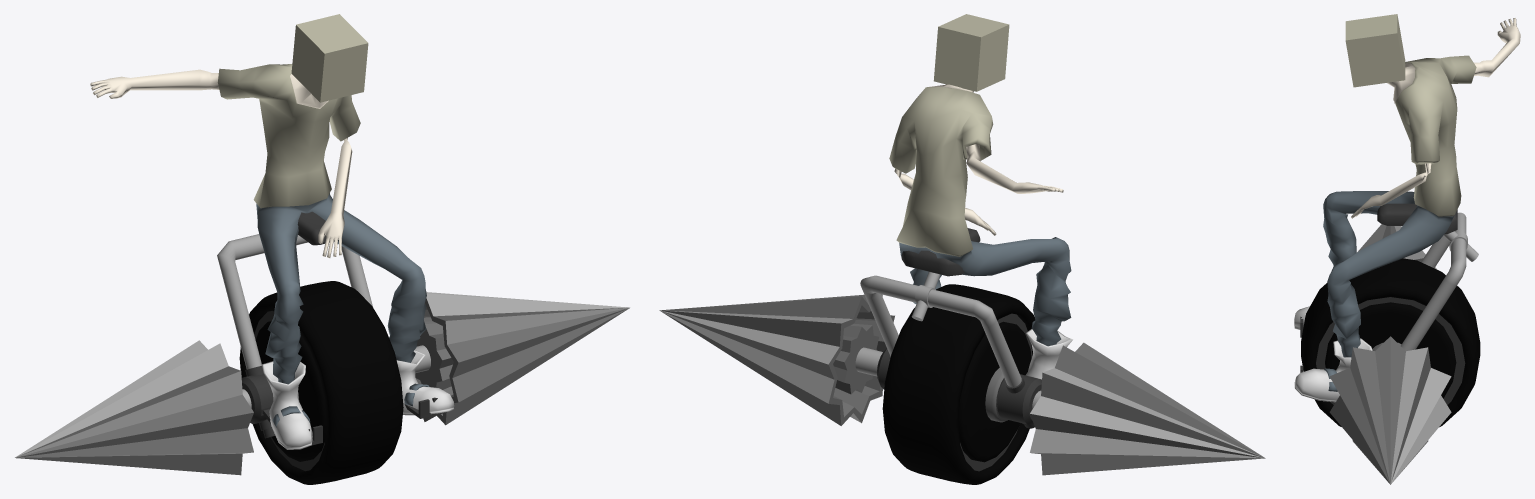
The model's file is zawagou.fbx.
The picture shows the model from 3 angles, left to right: view 1: azimuth 30°, elevation 25°; view 2: azimuth 150°, elevation 25°; view 3: azimuth 270°, elevation 25°; orthographic projection. The views are drawn at different scales.
Parts seen in each view (by area): view 1: body, wep_R, wep_L; view 2: body, wep_R, wep_L; view 3: body, wep_L, wep_R.
Part boxes in pixels (x1=…): body: x1=90, y1=14, x2=454, y2=484; wep_R: x1=15, y1=340, x2=253, y2=475; wep_L: x1=415, y1=292, x2=629, y2=425; body: x1=855, y1=14, x2=1072, y2=484; wep_R: x1=1030, y1=342, x2=1265, y2=475; wep_L: x1=659, y1=294, x2=894, y2=425; body: x1=1294, y1=14, x2=1520, y2=427; wep_L: x1=1329, y1=336, x2=1451, y2=484; wep_R: x1=1357, y1=224, x2=1437, y2=269.
Size of the model in its own units: 2.64 by 1.85 by 0.9326.
